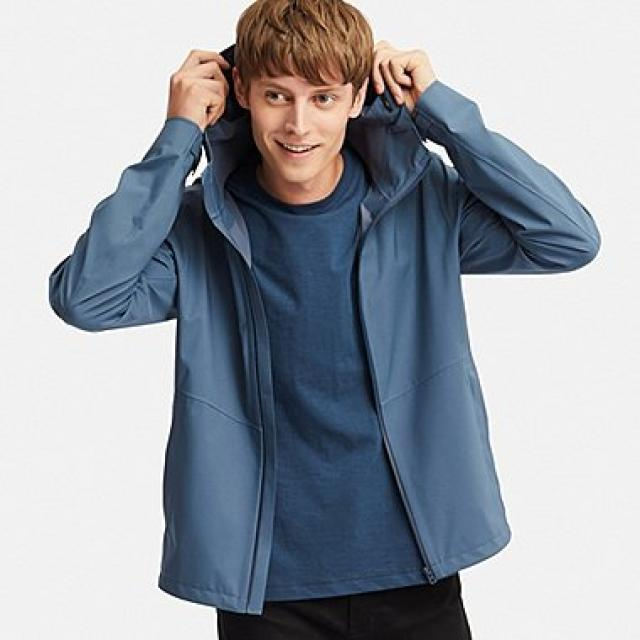human: (41, 0, 609, 640)
